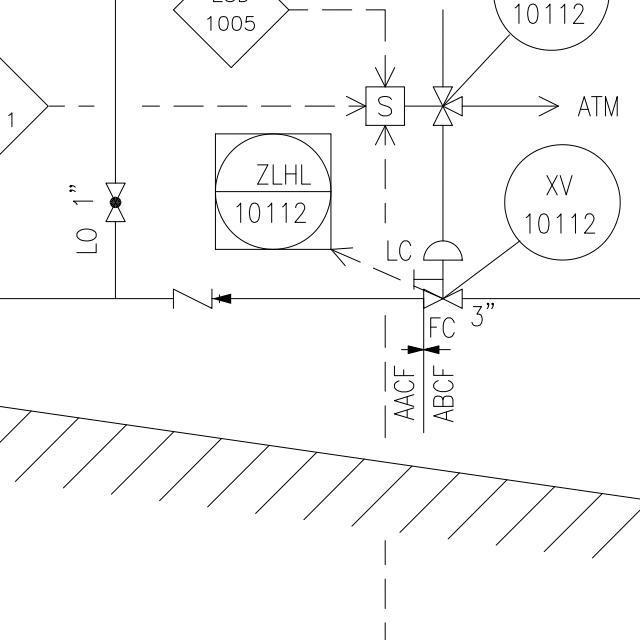3W: (427, 80, 468, 137)
BV2: (99, 177, 131, 226)
FC: (416, 235, 470, 311)
SV: (359, 81, 456, 132)
